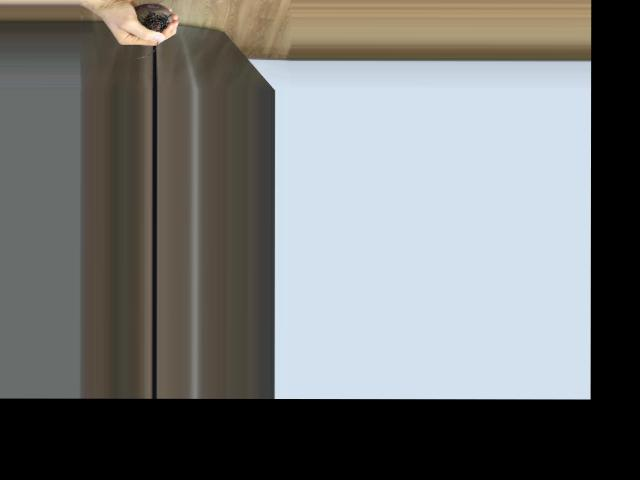beet: (134, 2, 173, 59)
